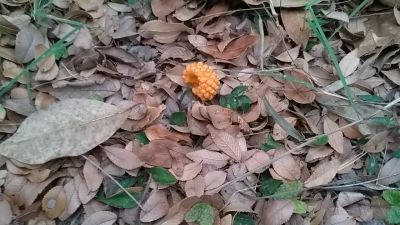eggs: (183, 60, 222, 100)
